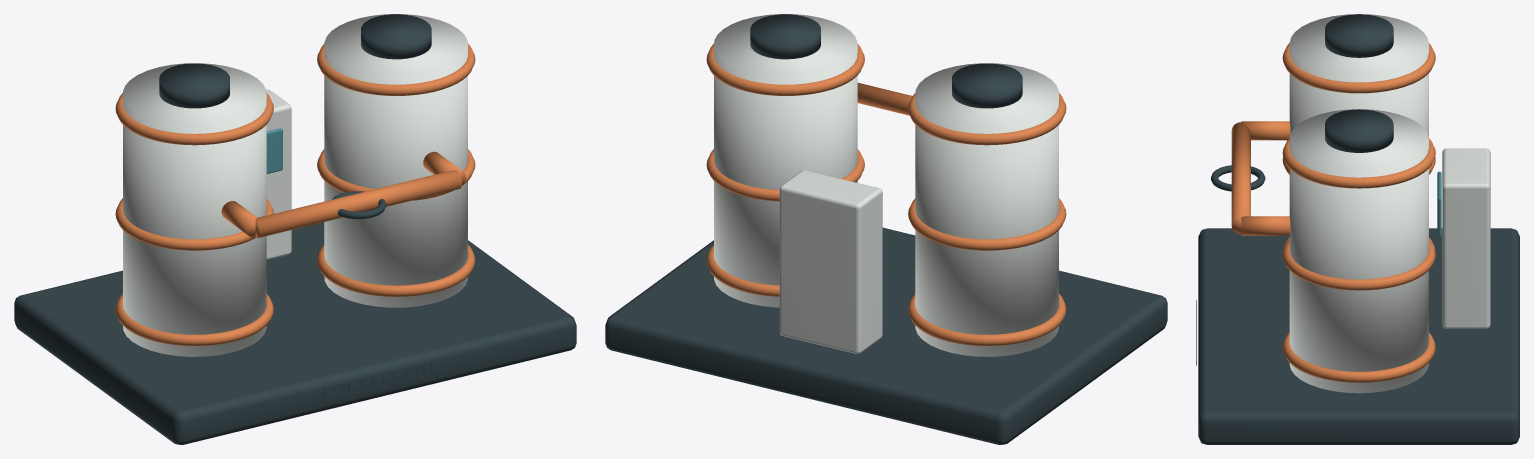
File: eva01-water-plant.glb
3 views of the same model, side by side, from view 1: azimuth 30°, elevation 25°; view 2: azimuth 150°, elevation 25°; view 3: azimuth 270°, elevation 25° (orthographic). The views are drawn at different scales.
Visible parts, largest first — view 1: Bancada de tratamiento, Filtro de agua, Filtro de agua.001, Colector, Tapa de servicio.001, Tapa de servicio, Armario de control, Brida, Brida.002, Brida.003, Brida.005, Brida.001 (+6 smaller); view 2: Bancada de tratamiento, Filtro de agua, Filtro de agua.001, Armario de control, Tapa de servicio.001, Tapa de servicio, Brida.001, Brida, Brida.002, Brida.005, Brida.004, Colector (+1 smaller); view 3: Bancada de tratamiento, Filtro de agua.001, Filtro de agua, Armario de control, Tapa de servicio.001, Tapa de servicio, Brida.004, Brida.005, Brida.003, Brida.002, Colector, Tubería de impulsión.001 (+3 smaller).
Part boxes in pixels (<box>): Bancada de tratamiento: <box>14,222,576,444</box>; Filtro de agua: <box>123,63,266,356</box>; Filtro de agua.001: <box>324,14,467,307</box>; Colector: <box>255,170,461,238</box>; Tapa de servicio.001: <box>361,14,431,59</box>; Tapa de servicio: <box>159,63,229,108</box>; Armario de control: <box>266,89,291,259</box>; Brida: <box>115,293,273,345</box>; Brida.002: <box>115,92,273,145</box>; Brida.003: <box>317,244,475,296</box>; Brida.005: <box>317,43,475,95</box>; Brida.001: <box>115,198,273,250</box>; Bancada de tratamiento: <box>605,227,1167,444</box>; Filtro de agua: <box>915,63,1058,356</box>; Filtro de agua.001: <box>714,14,857,307</box>; Armario de control: <box>779,170,882,353</box>; Tapa de servicio.001: <box>750,14,820,59</box>; Tapa de servicio: <box>952,63,1022,108</box>; Brida.001: <box>908,198,1066,250</box>; Brida: <box>908,293,1066,345</box>; Brida.002: <box>908,92,1066,145</box>; Brida.005: <box>706,43,864,95</box>; Brida.004: <box>706,149,864,201</box>; Colector: <box>857,82,912,115</box>; Bancada de tratamiento: <box>1198,228,1519,444</box>; Filtro de agua.001: <box>1289,109,1428,393</box>; Filtro de agua: <box>1289,14,1428,137</box>; Armario de control: <box>1442,148,1490,328</box>; Tapa de servicio.001: <box>1325,109,1393,152</box>; Tapa de servicio: <box>1325,14,1393,57</box>; Brida.004: <box>1282,240,1435,290</box>; Brida.005: <box>1282,138,1435,188</box>; Brida.003: <box>1282,332,1435,382</box>; Brida.002: <box>1282,43,1435,93</box>; Colector: <box>1231,122,1250,234</box>; Tubería de impulsión.001: <box>1241,216,1290,235</box>.
Bounding box in the file's own units: 4.2 × 2.85 × 3.02.
